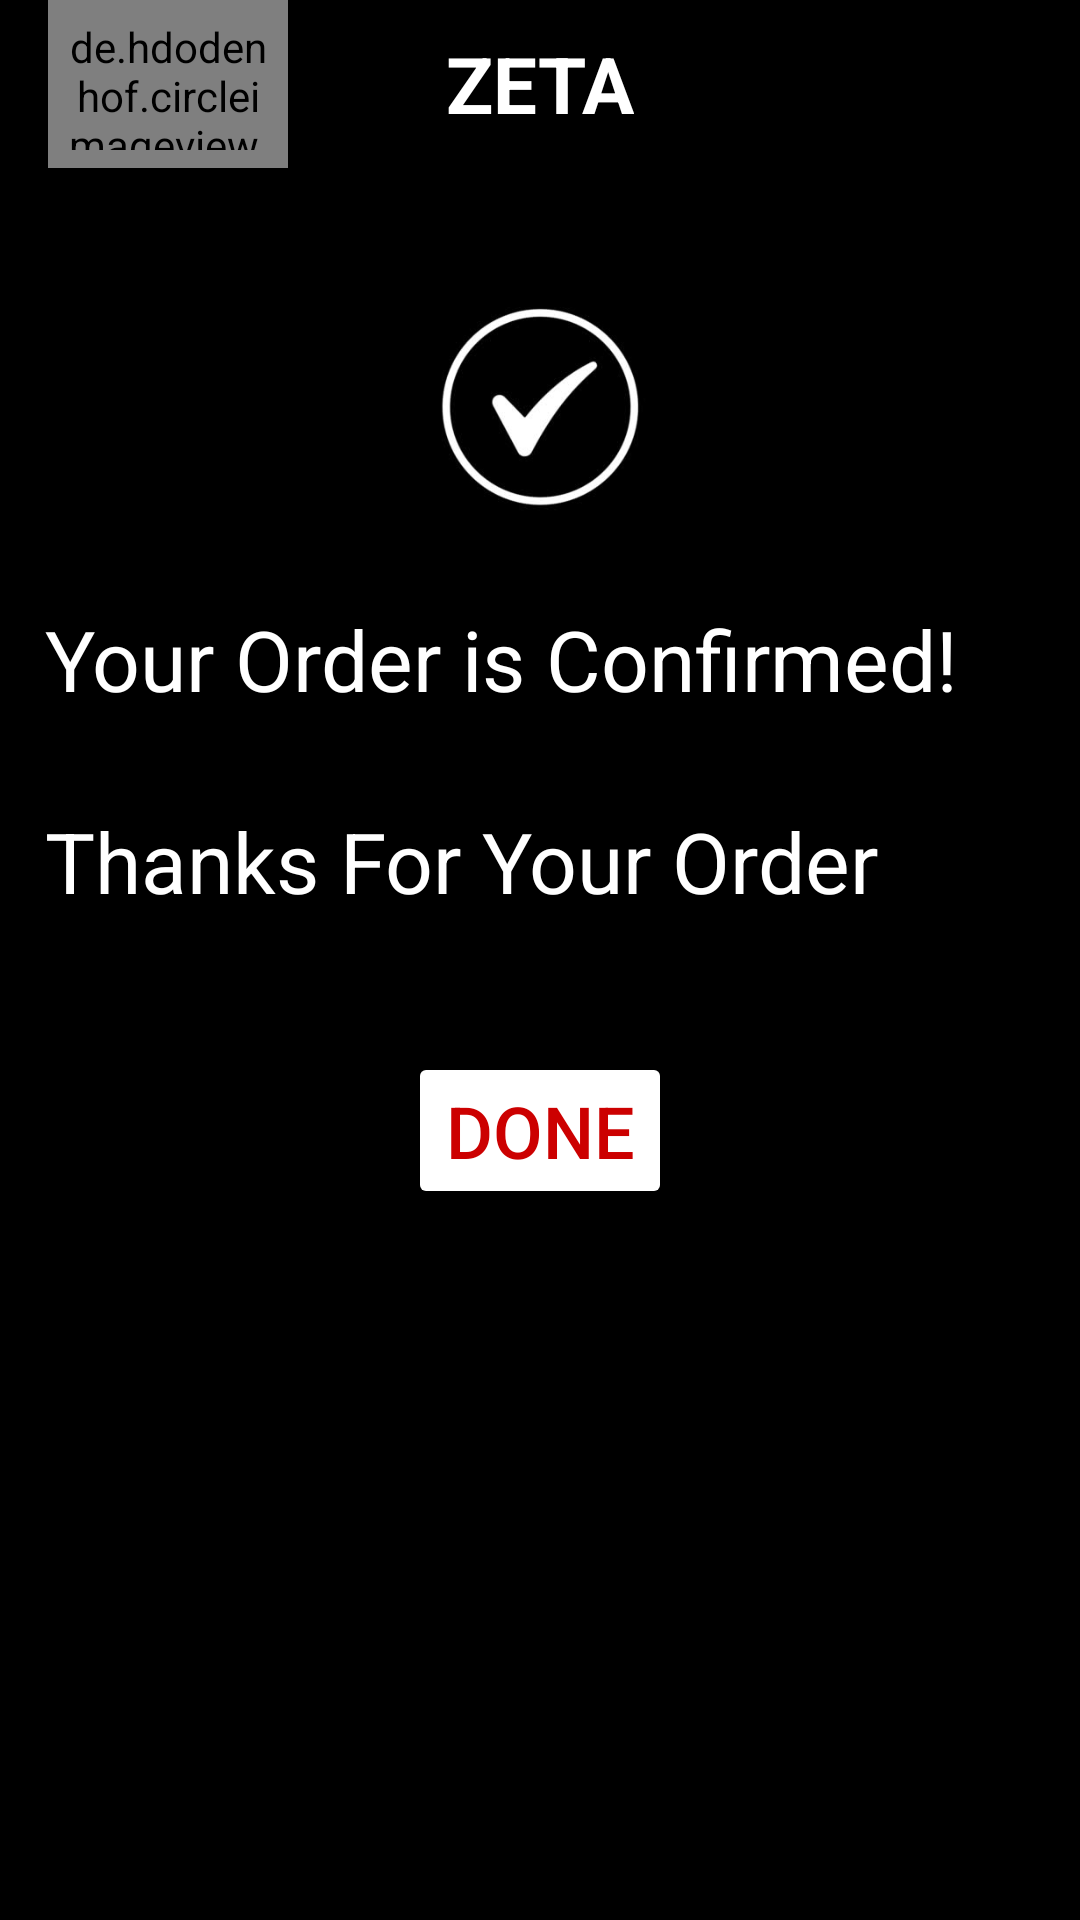

Named icons in this screenshot (1080x1920) and their centers, [x,y]:
done: [540,407]
